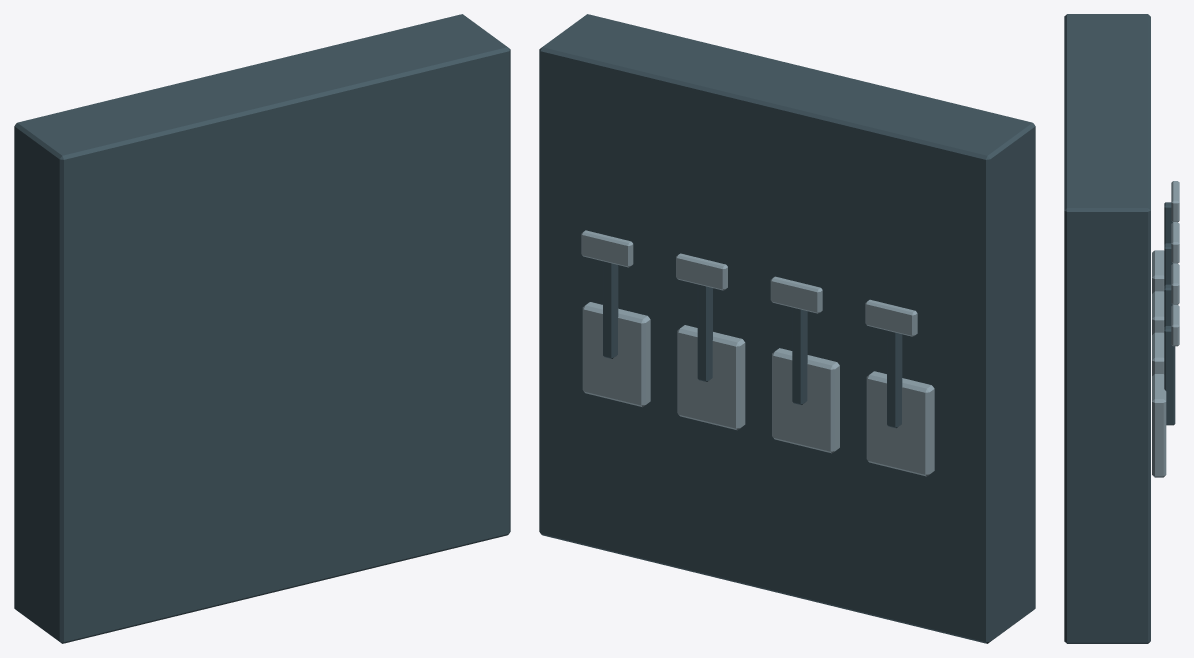
File: leviers_perimetre.glb
3 views of the same model, side by side, from view 1: azimuth 30°, elevation 25°; view 2: azimuth 150°, elevation 25°; view 3: azimuth 270°, elevation 25° (orthographic). The views are drawn at different scales.
Visible parts, largest first — view 1: leviers_perimetre; view 2: leviers_perimetre; view 3: leviers_perimetre.
Boxes of the visible parts, box(x1,y1,x2,y2) form: leviers_perimetre: box(14, 14, 510, 643); leviers_perimetre: box(539, 14, 1035, 643); leviers_perimetre: box(1064, 14, 1179, 643).
Size of the model in its own units: 1.45 by 1.5 by 0.36.
Materials: 1 (1 with a texture image).
